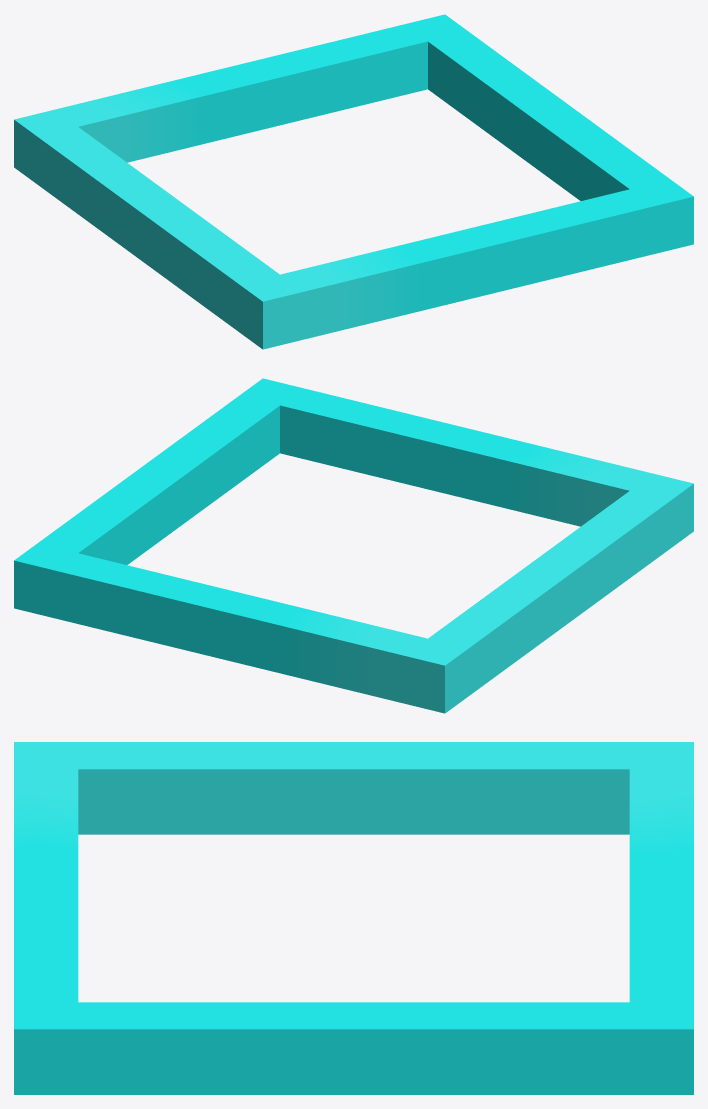
The model's file is Goal_AngelRing.fbx.
The picture shows the model from 3 angles, top to bottom: view 1: azimuth 30°, elevation 25°; view 2: azimuth 150°, elevation 25°; view 3: azimuth 270°, elevation 25°; orthographic projection. The views are drawn at different scales.
Visible parts, largest first — view 1: AngelRing; view 2: AngelRing; view 3: AngelRing.
Part boxes in pixels (x1,y1,x2,y2): AngelRing: [14, 14, 693, 349]; AngelRing: [14, 378, 693, 713]; AngelRing: [14, 742, 693, 1094].
Size of the model in its own units: 0.5922 by 0.0629 by 0.5922.
